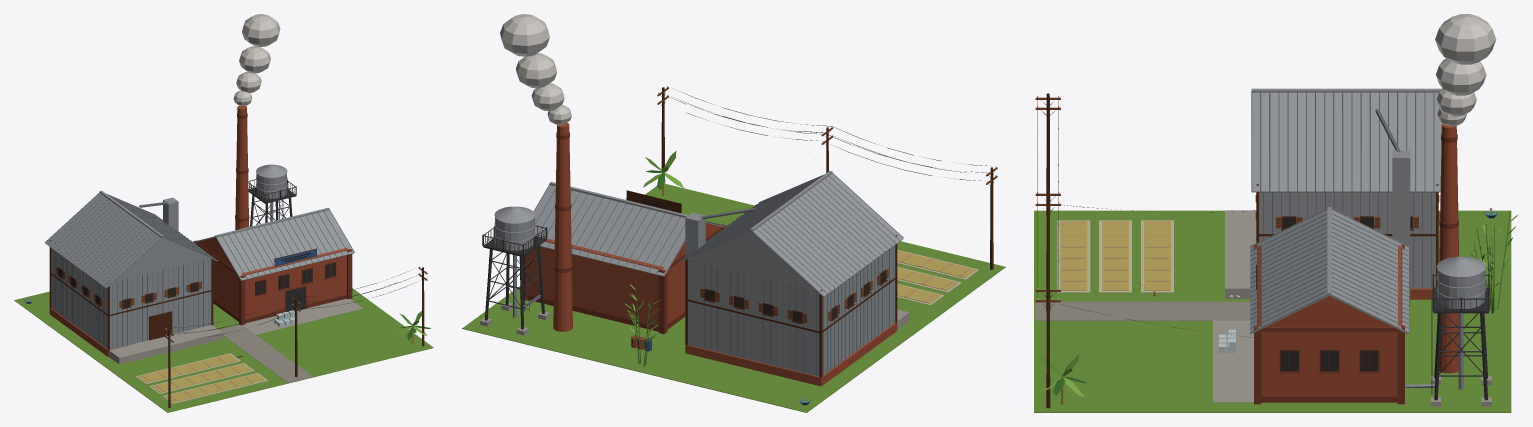
File: factory_4.glb
The picture shows the model from 3 angles, left to right: view 1: azimuth 30°, elevation 25°; view 2: azimuth 150°, elevation 25°; view 3: azimuth 270°, elevation 25°; orthographic projection. The views are drawn at different scales.
Visible parts, largest first — view 1: body, windows; view 2: body, windows; view 3: body, windows.
Part boxes in pixels (x1=…): body: x1=14, y1=14, x2=433, y2=412; windows: x1=58, y1=262, x2=335, y2=307; body: x1=462, y1=14, x2=1005, y2=412; windows: x1=705, y1=271, x2=885, y2=322; body: x1=1034, y1=14, x2=1518, y2=412; windows: x1=1280, y1=217, x2=1411, y2=370.
Size of the model in its own units: 32.51 by 27.32 by 32.41.
